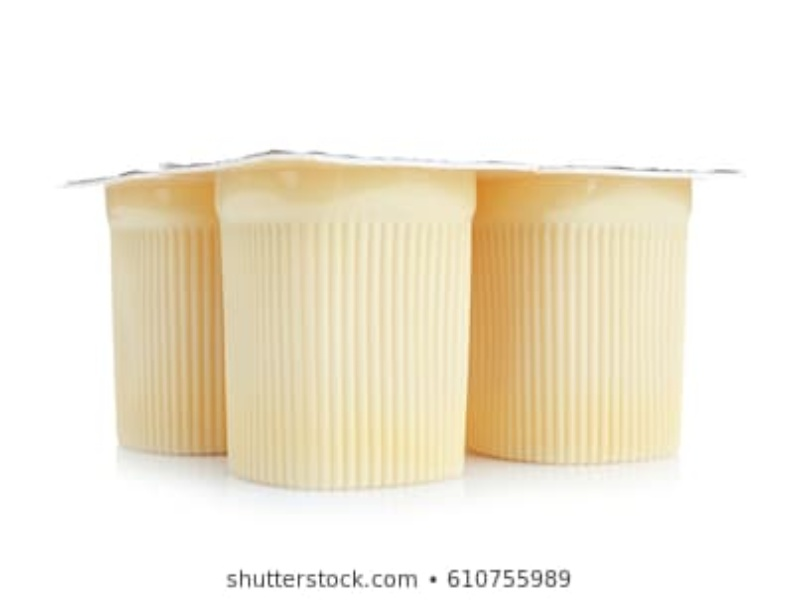yogurt-cup: (212, 144, 494, 487), (470, 152, 722, 467), (68, 152, 244, 455)
